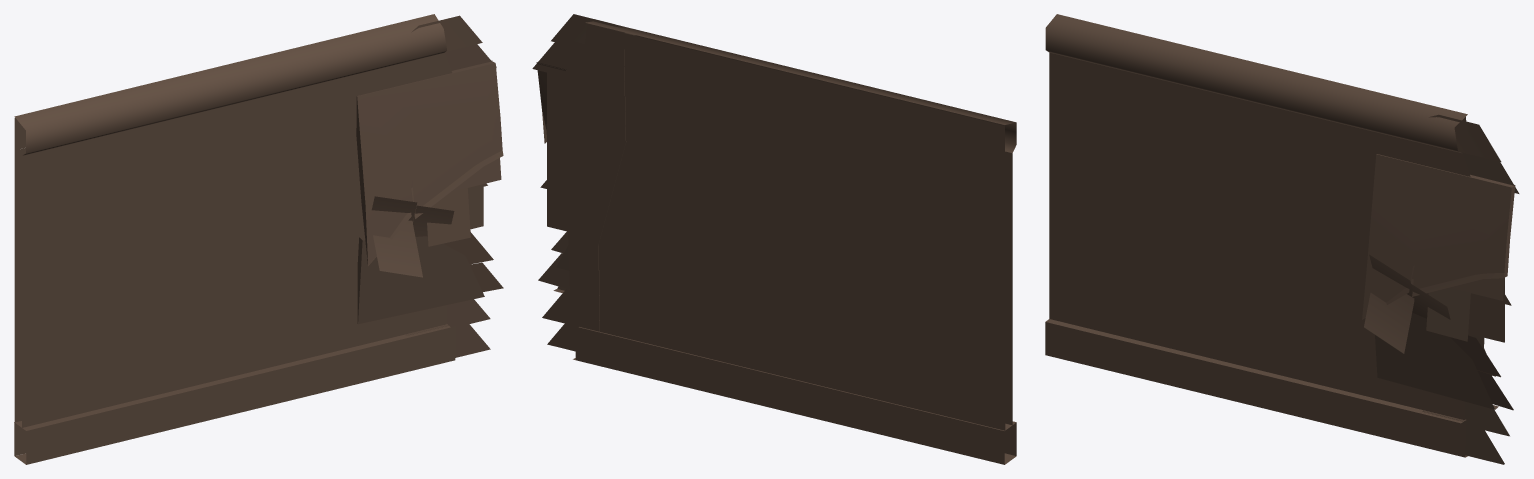
The model's file is DBK_Molding_Bottom_End_B.fbx.
The picture shows the model from 3 angles, left to right: view 1: azimuth 30°, elevation 25°; view 2: azimuth 150°, elevation 25°; view 3: azimuth 330°, elevation 25°; orthographic projection. The views are drawn at different scales.
Visible parts, largest first — view 1: DBK_Molding_Bottom_End_B; view 2: DBK_Molding_Bottom_End_B; view 3: DBK_Molding_Bottom_End_B.
Part boxes in pixels (<box>): DBK_Molding_Bottom_End_B: <box>14,14,503,464</box>; DBK_Molding_Bottom_End_B: <box>532,14,1016,464</box>; DBK_Molding_Bottom_End_B: <box>1045,14,1519,464</box>.
Size of the model in its own units: 147 by 100 by 14.6.
